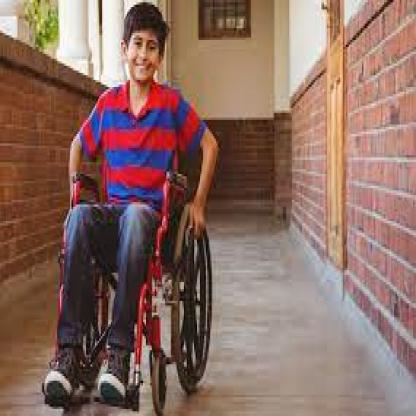wheelchair: (48, 0, 219, 414)
